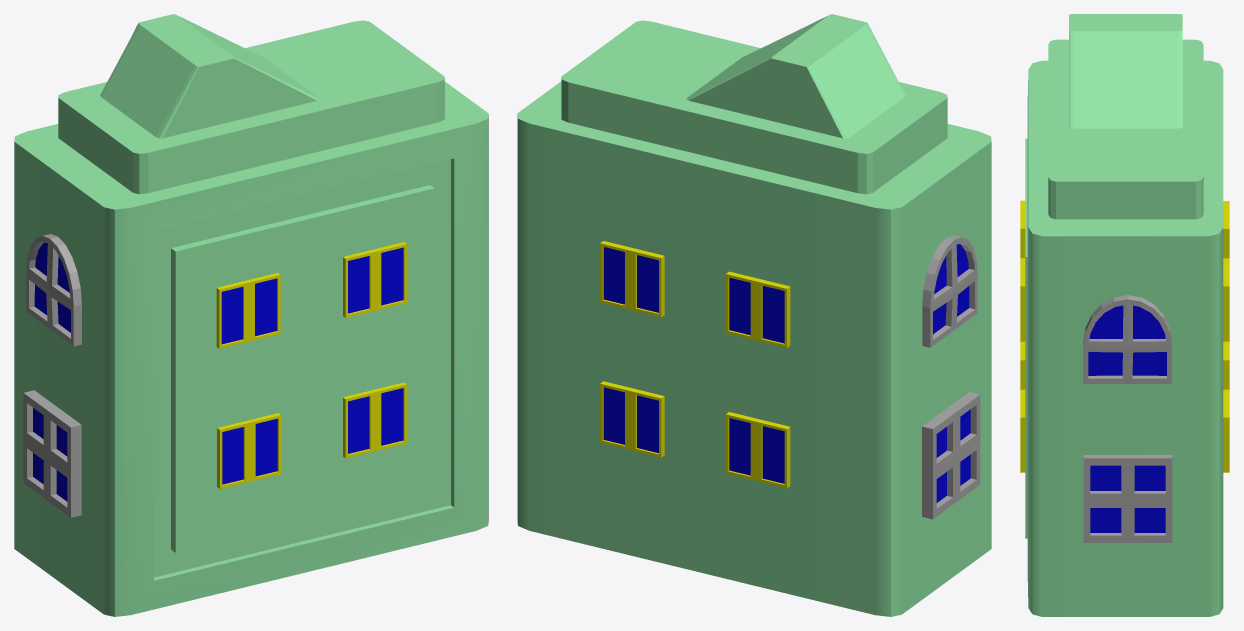
3 renders of one model, left to right at view 1: azimuth 30°, elevation 25°; view 2: azimuth 150°, elevation 25°; view 3: azimuth 270°, elevation 25°, orthographic. The views are drawn at different scales.
Visible parts, largest first — view 1: pCube78, pCube136, pCube135, pCube144, pCube102, pCube103, pCube101; view 2: pCube78, pCube136, pCube135, pCube106, pCube107, pCube104, pCube105; view 3: pCube78, pCube100, pCube99, pCube104, pCube105, pCube101, pCube102, pCube106, pCube144, pCube107.
Part boxes in pixels (left/top/right/bottom): pCube78: left=14, top=14, right=488, bottom=616; pCube136: left=23, top=390, right=81, bottom=517; pCube135: left=26, top=234, right=81, bottom=346; pCube144: left=216, top=273, right=280, bottom=348; pCube102: left=343, top=382, right=406, bottom=458; pCube103: left=217, top=413, right=280, bottom=488; pCube101: left=343, top=242, right=406, bottom=317; pCube78: left=517, top=14, right=991, bottom=616; pCube136: left=922, top=392, right=980, bottom=519; pCube135: left=922, top=235, right=977, bottom=347; pCube106: left=725, top=271, right=790, bottom=347; pCube107: left=725, top=412, right=790, bottom=488; pCube104: left=600, top=241, right=664, bottom=317; pCube105: left=600, top=381, right=664, bottom=457; pCube78: left=1025, top=14, right=1223, bottom=616; pCube100: left=1083, top=455, right=1172, bottom=542; pCube99: left=1083, top=295, right=1171, bottom=383; pCube104: left=1223, top=258, right=1229, bottom=341; pCube105: left=1223, top=389, right=1229, bottom=472; pCube101: left=1020, top=258, right=1025, bottom=341; pCube102: left=1020, top=389, right=1025, bottom=472; pCube106: left=1223, top=201, right=1229, bottom=258; pCube144: left=1020, top=200, right=1025, bottom=258; pCube107: left=1223, top=341, right=1229, bottom=389.
Size of the model in its own units: 39.37 by 47.24 by 18.81.
